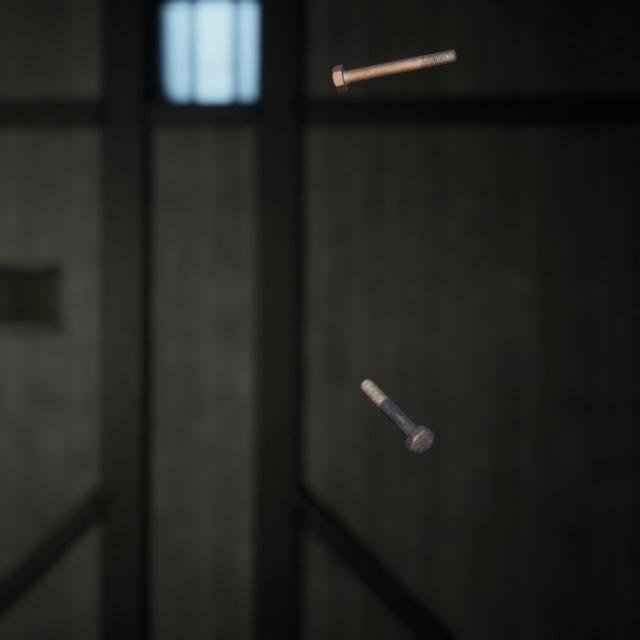bolt: (327, 35, 461, 88), (356, 356, 439, 439)
